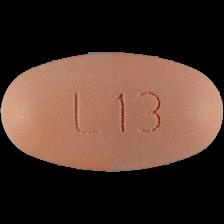68180-223: (0, 0, 224, 224)
